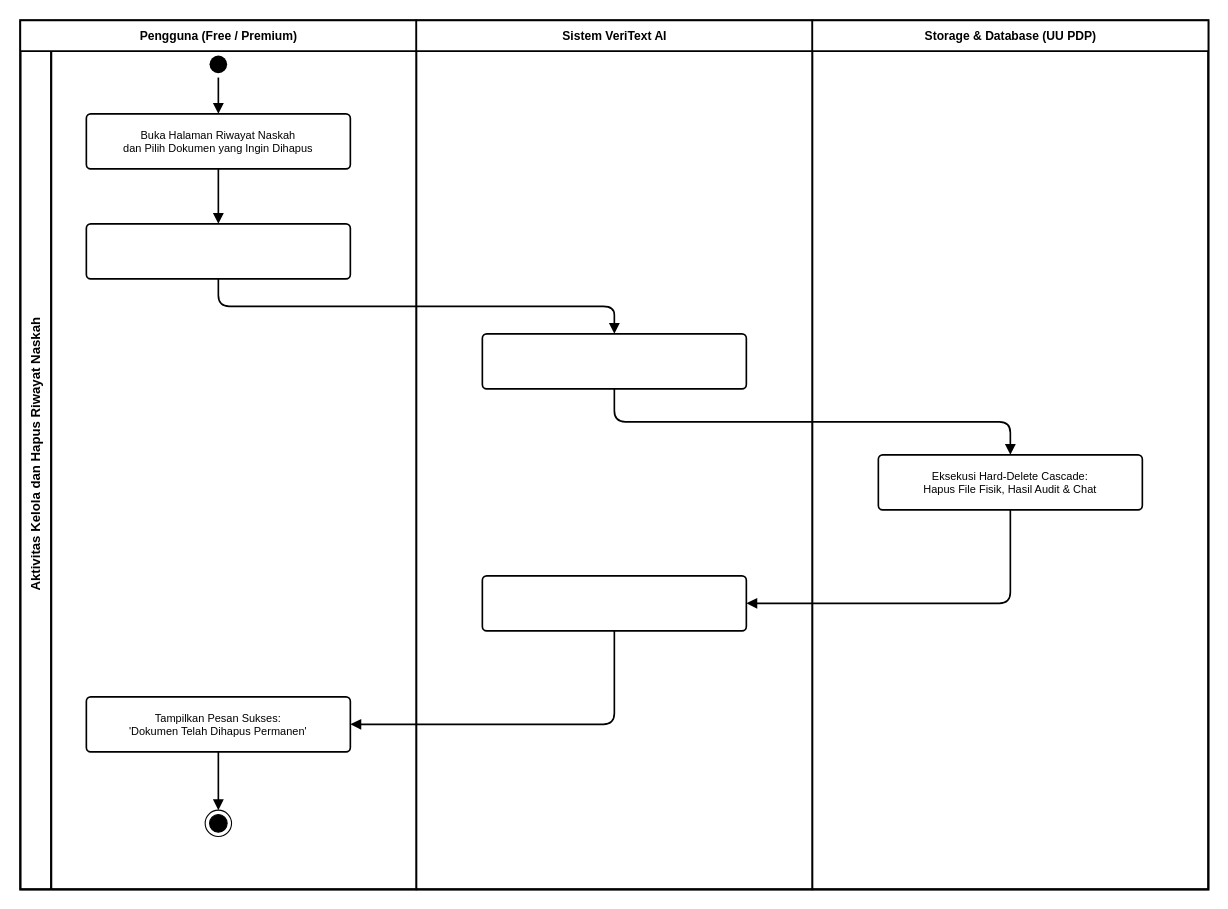
This 1228x909 diagram has some shape labels left out. Here are the shapes that lost their labels. From the top down, the centre of each, then its label:
(x=218, y=251): Klik Tombol 'Hapus Permanen' dan Konfirmasi Modal Peringatan
(x=614, y=361): Validasi Kepemilikan Dokumen (Pencocokan user_id Pemilik)
(x=614, y=603): Catat Peristiwa Penghapusan pada Log Audit (Kepatuhan UU PDP No. 27/2022)
